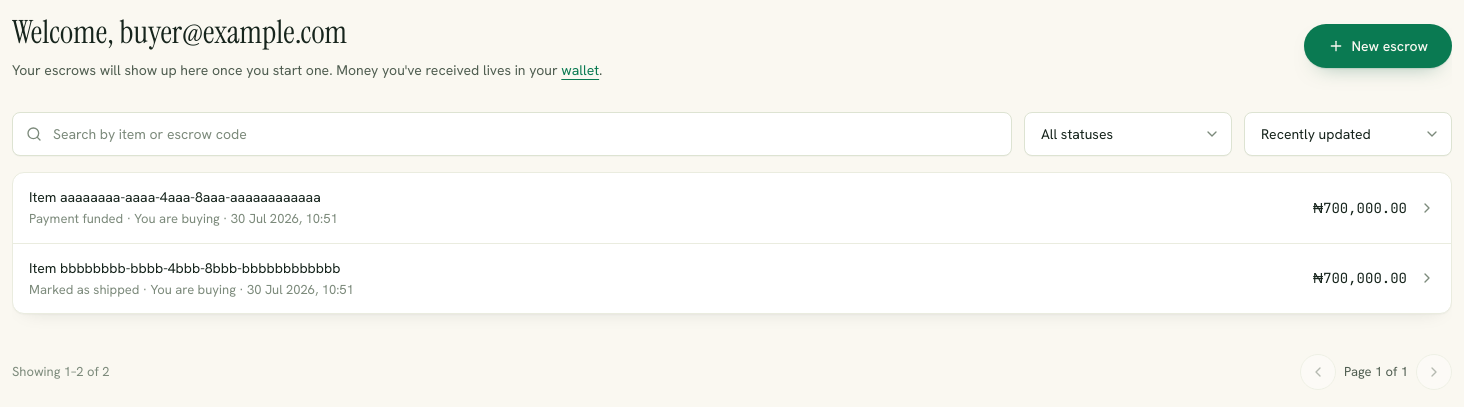
Test case: DashboardPage › search, filter, sort, and pagination › filters by status and sends the state in the request
Expected: the text "Item aaaaaaaa-aaaa-4aaa-8aaa-aaaaaaaaaaaa" is shown, top-left (29, 188), bottom-right (321, 206)
Select "Payment funded" in the dropdown named "Filter by status" at (1128, 134), box top-left (1024, 112), bottom-right (1232, 156)
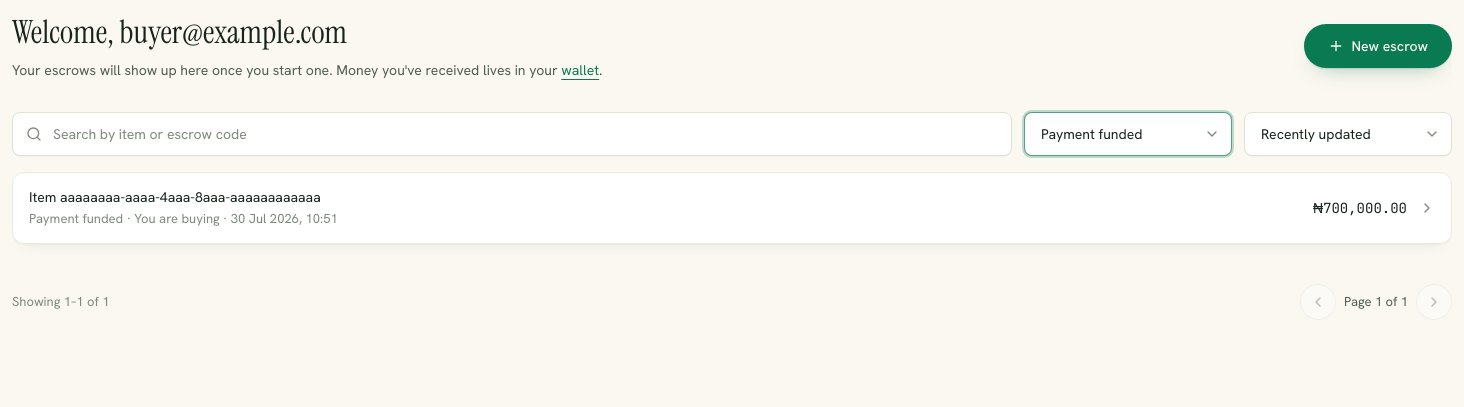
Expected: the text "Item aaaaaaaa-aaaa-4aaa-8aaa-aaaaaaaaaaaa" is shown, top-left (29, 188), bottom-right (321, 206)
Now the link "Item bbbbbbbb-bbbb-4bbb-8bbb-bbbbbbbbbbbb" is gone
